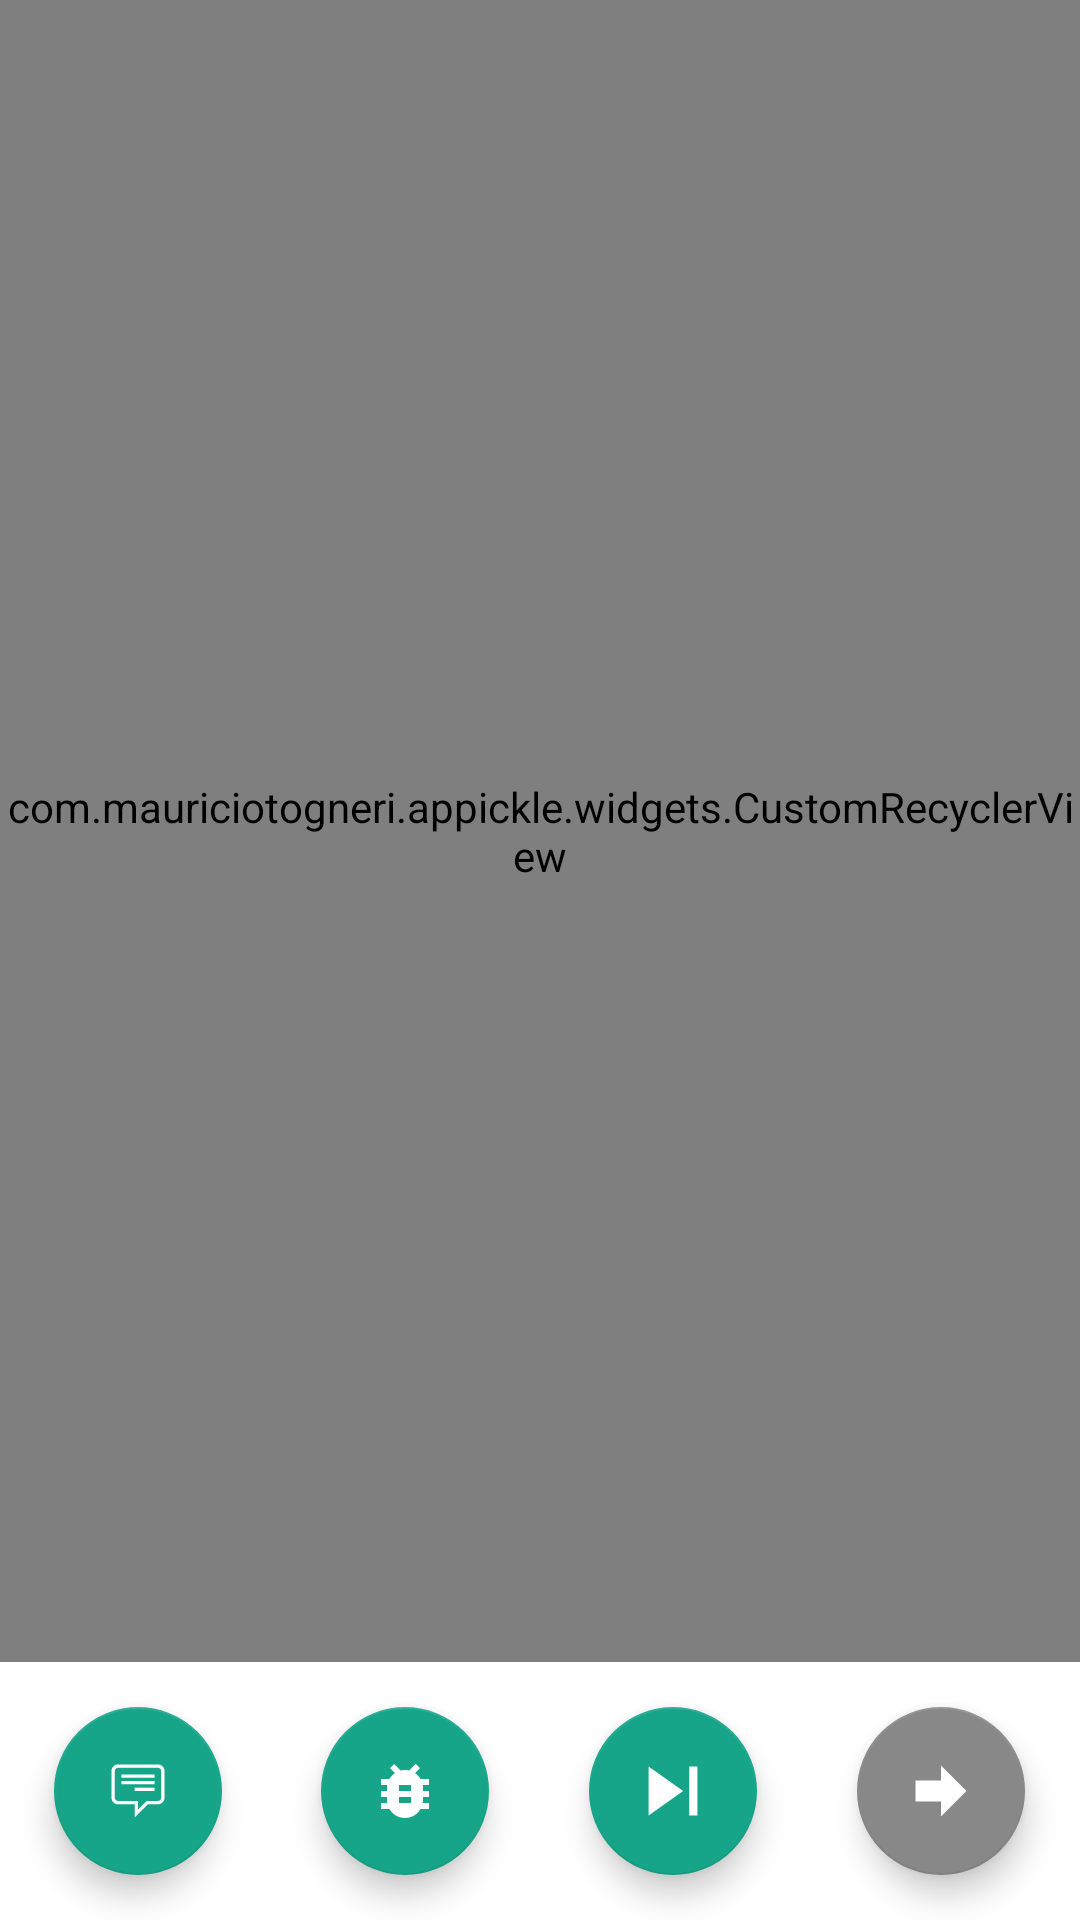

Named icons in this screenshot (1080x1920) and their bounding boxes, (x1, y1, x2, y2):
bug: (321, 1707, 489, 1875)
comment: (54, 1707, 222, 1875)
next: (857, 1707, 1025, 1875)
skip: (589, 1707, 757, 1875)
